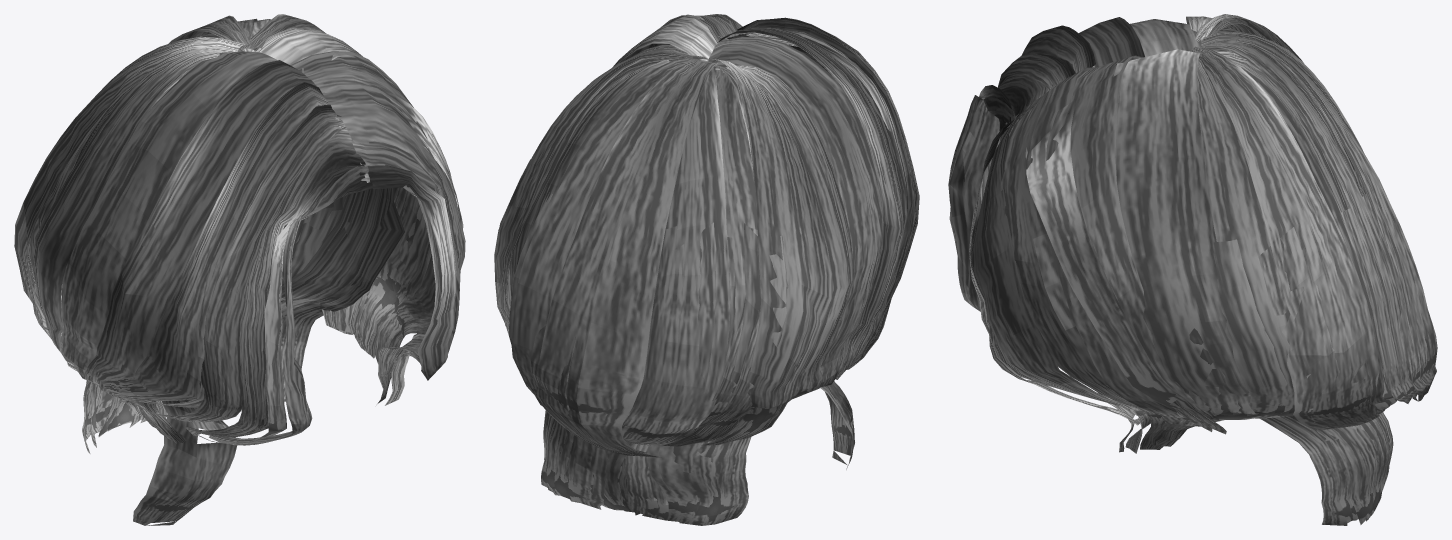
The model's file is hair_long01.glb.
3 views of the same model, side by side, from view 1: azimuth 30°, elevation 25°; view 2: azimuth 150°, elevation 25°; view 3: azimuth 270°, elevation 25° (orthographic). The views are drawn at different scales.
Visible parts, largest first — view 1: hair_long01; view 2: hair_long01; view 3: hair_long01.
Boxes of the visible parts, <box> form: hair_long01: <box>14,14,465,525</box>; hair_long01: <box>494,14,919,525</box>; hair_long01: <box>948,14,1437,525</box>.
Bounding box in the file's own units: 0.2063 × 0.2429 × 0.2412.
Materials: 1 (1 with a texture image).
